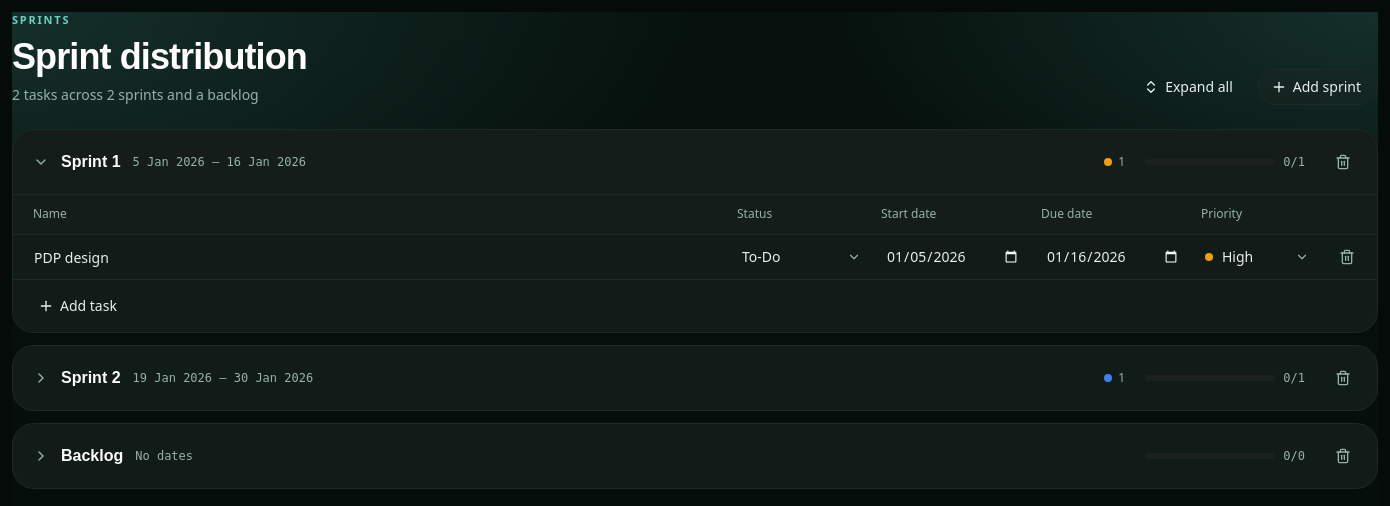
Sprints › refuses an empty task name
Clear the field named "Name for PDP design" at [375, 257], box [25, 239, 725, 275]
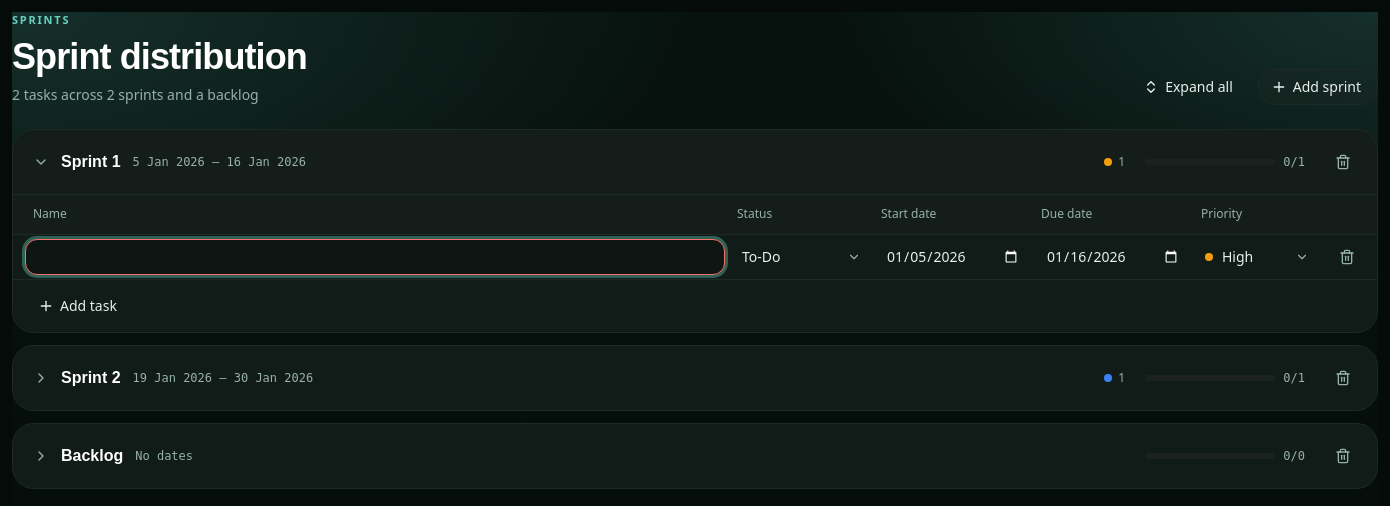
Press Tab
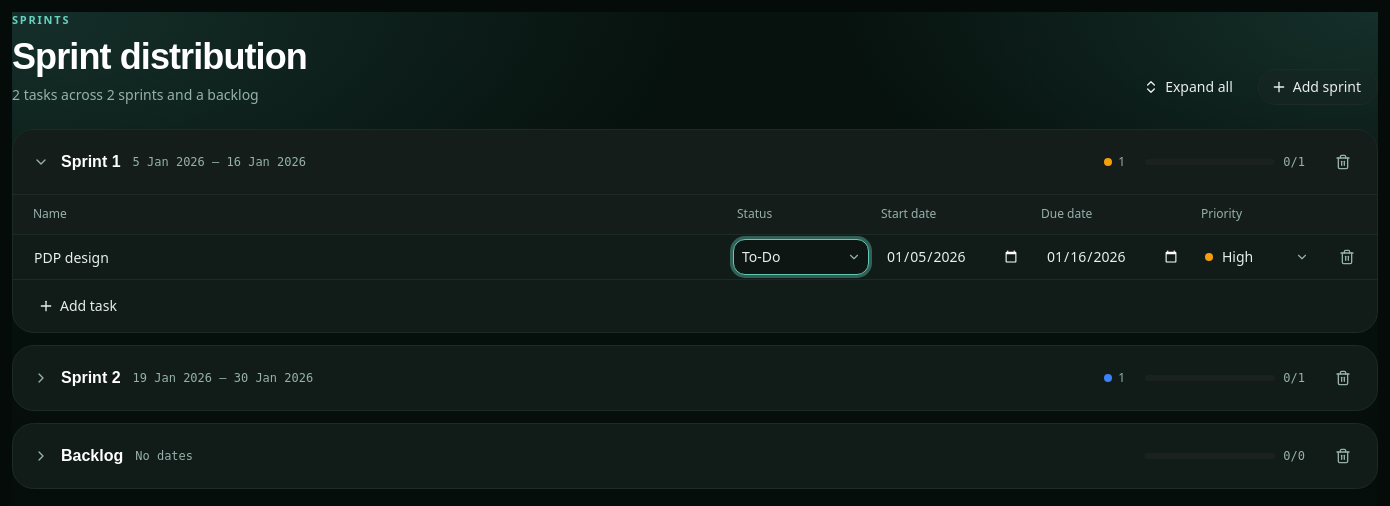
Check: the field named "Name for PDP design" holds "PDP design", box [25, 239, 725, 275]
